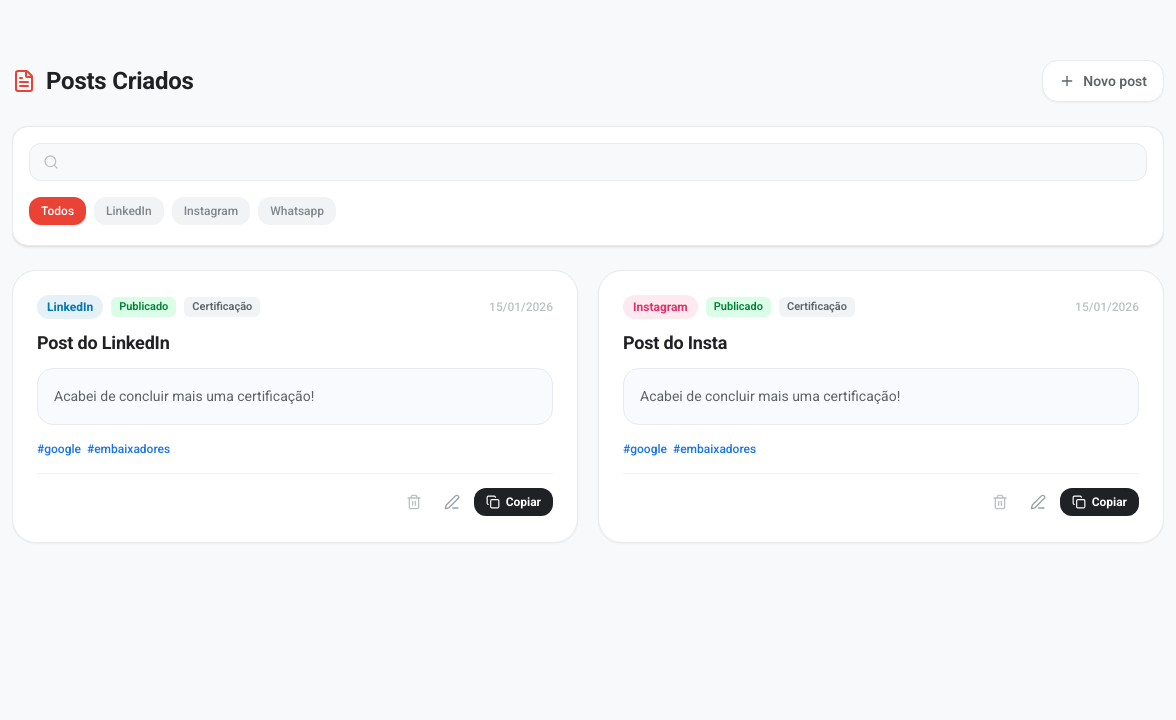
Test: PostsModule › filters posts by platform
This screenshot has width=1176, height=720.
Click the button "Instagram" at (211, 211), box [172, 197, 250, 225]
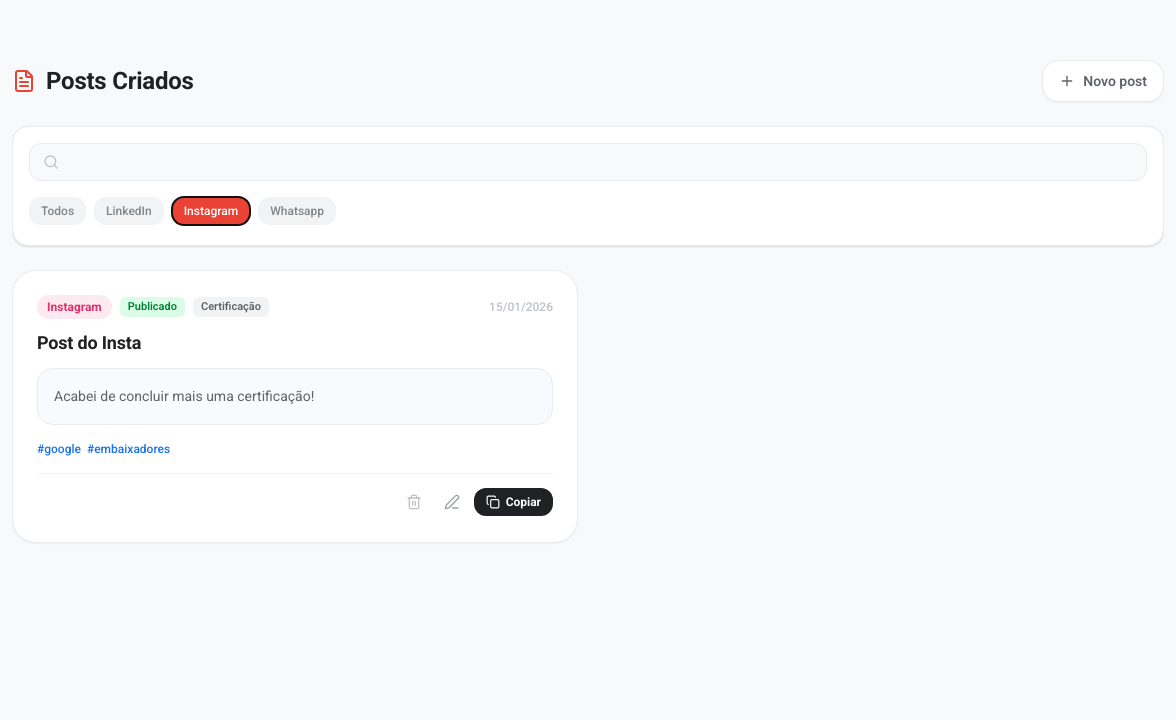
Expected: the button "Post do Insta" is shown, [37, 331, 141, 356]
Result: the button "Post do LinkedIn" is gone
